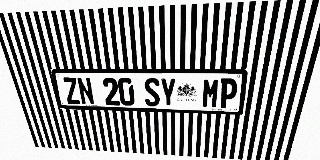0: (117, 78, 135, 106)
2: (102, 78, 120, 105)
M: (202, 78, 220, 108)
N: (76, 77, 95, 105)
P: (218, 78, 238, 109)
S: (143, 78, 160, 107)
Y: (160, 78, 176, 107)
Z: (62, 77, 81, 104)
